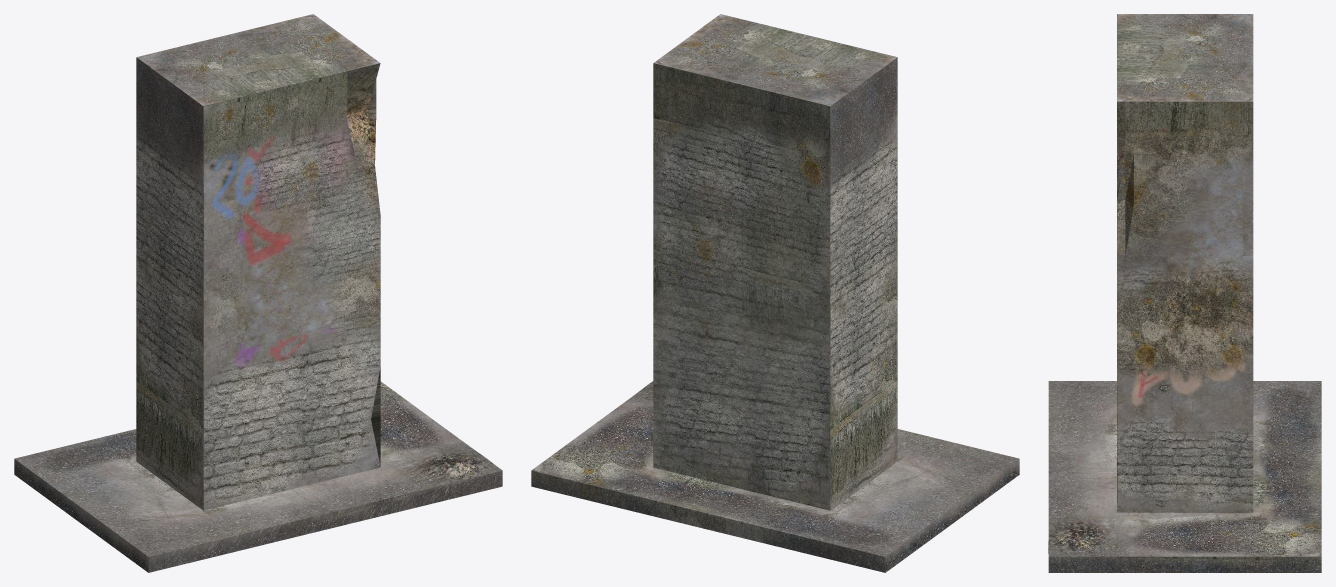
Rendered from broken wall.obj.
The picture shows the model from 3 angles, left to right: view 1: azimuth 30°, elevation 25°; view 2: azimuth 150°, elevation 25°; view 3: azimuth 270°, elevation 25°; orthographic projection.
Visible parts, largest first — view 1: Cube; view 2: Cube; view 3: Cube.
Boxes of the visible parts, bbox=[...] form: Cube: bbox=[14, 14, 502, 572]; Cube: bbox=[531, 14, 1019, 572]; Cube: bbox=[1048, 14, 1321, 572].
Bounding box in the file's own units: 3.05 × 3.46 × 2.
1 material, 1 textured.
